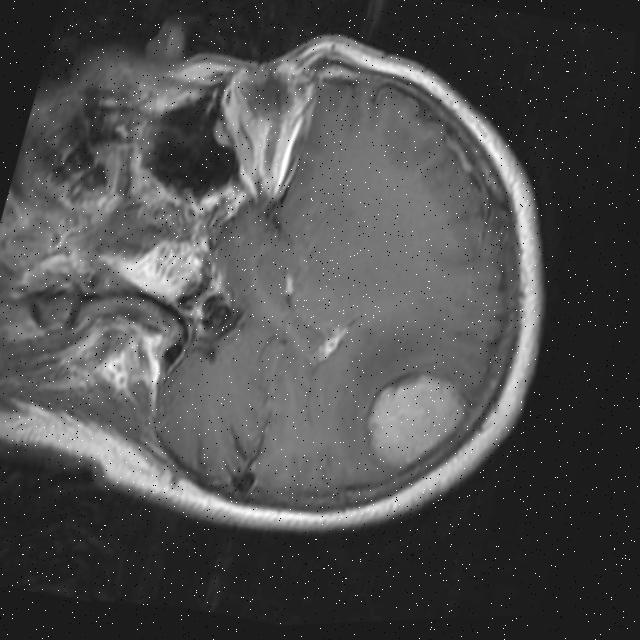Meningioma: (349, 360, 477, 485)
